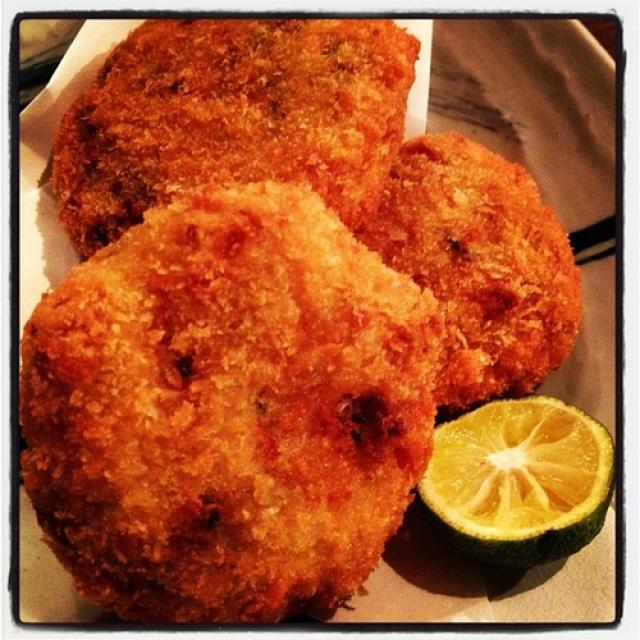炸货点心: (26, 28, 592, 604)
